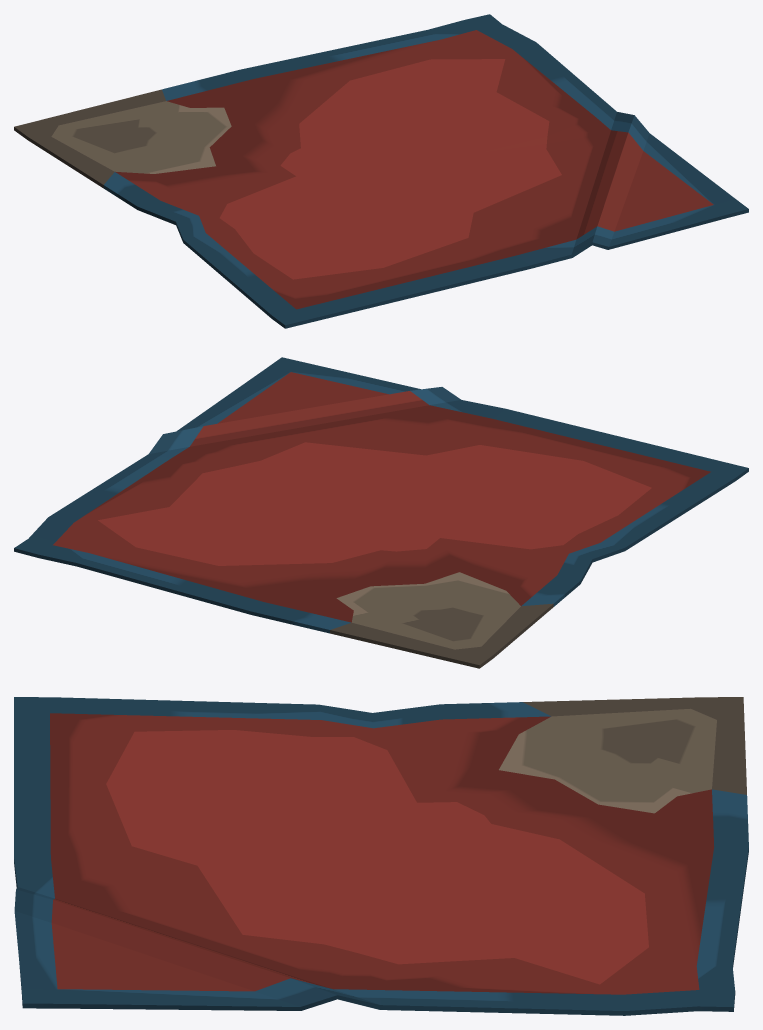
Rendered from SM_Prop_Rug_03.fbx.
3 views of the same model, one above another, from view 1: azimuth 30°, elevation 25°; view 2: azimuth 150°, elevation 25°; view 3: azimuth 270°, elevation 25° (orthographic). The views are drawn at different scales.
Parts seen in each view (by area): view 1: SM_Prop_Rug_03; view 2: SM_Prop_Rug_03; view 3: SM_Prop_Rug_03.
Boxes of the visible parts, box(x1,y1,x2,y2) form: SM_Prop_Rug_03: box(14, 14, 748, 328); SM_Prop_Rug_03: box(14, 357, 748, 668); SM_Prop_Rug_03: box(14, 697, 748, 1015).
Size of the model in its own units: 229 by 5.84 by 226.
